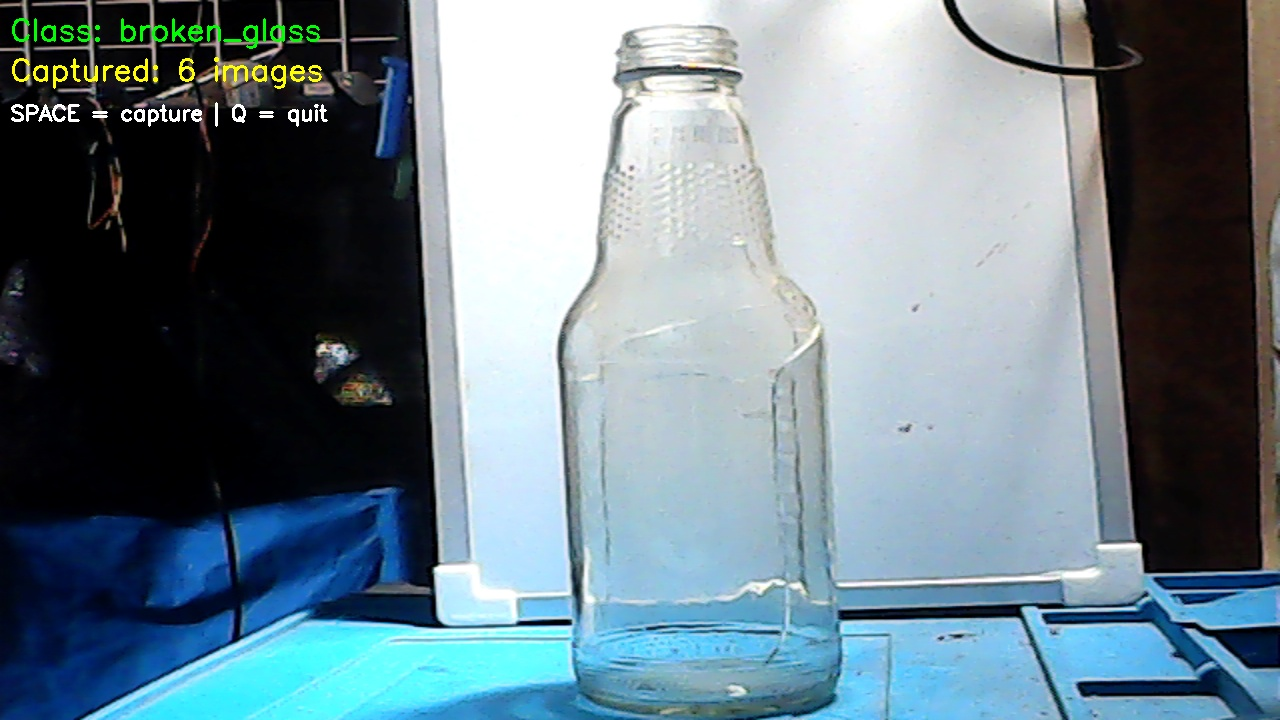broken_glass: (558, 23, 845, 714)
